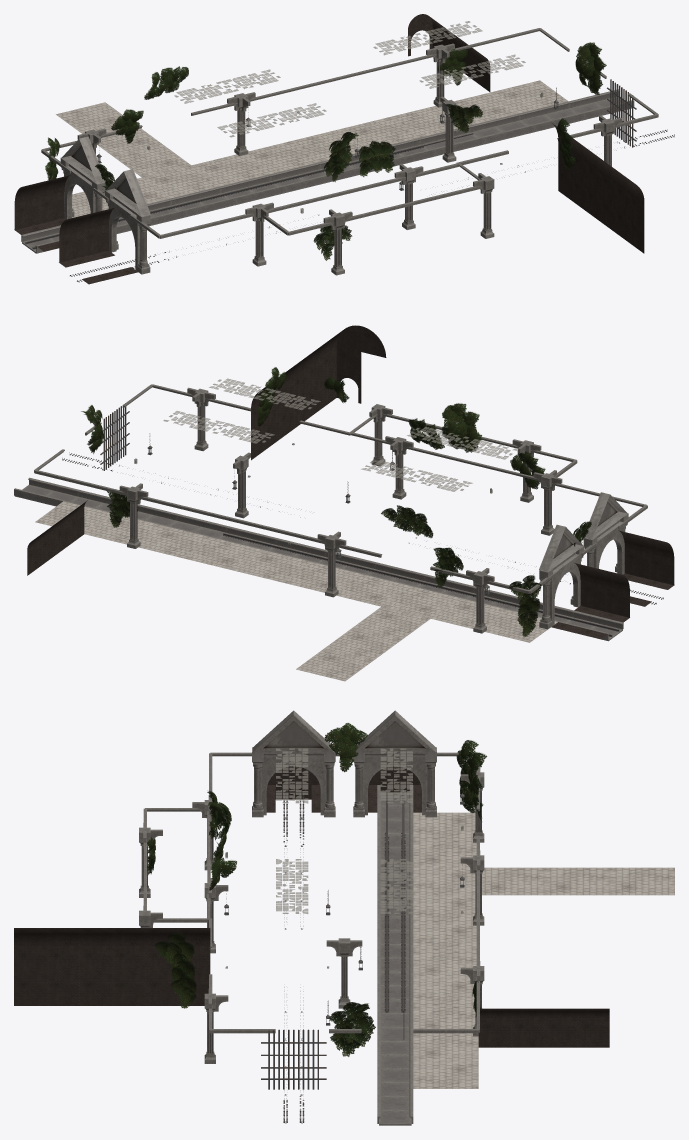
File: metro_station_3.glb
3 renders of one model, top to bottom at view 1: azimuth 30°, elevation 25°; view 2: azimuth 150°, elevation 25°; view 3: azimuth 270°, elevation 25°, orthographic. The views are drawn at different scales.
Visible parts, largest first — view 1: Platforms, Railway_Track1_Base, Corridors, Main_Walls, Main_Roof, Large_Corridor1, Tunnel_Entrance2, Tunnel_Arch2, Tunnel_Entrances, Tunnel_Arches, Small_Corridor1, Metal_Gate3 (+18 smaller); view 2: Platforms, Railway_Track1_Base, Corridors, Main_Walls, Main_Roof, Large_Corridor1, Tunnel_Entrances, Tunnel_Arches, Tunnel_Entrance2, Tunnel_Arch2, Small_Corridor1, Ivy_Large_Group10 (+19 smaller); view 3: Platforms, Corridors, Railway_Track1_Base, Main_Roof, Large_Corridor1, Small_Corridor1, Tunnel_Arch2, Tunnel_Arches, Main_Walls, Railway_Tracks, Metal_Gate3, Tunnel_Entrance2 (+10 smaller).
Boxes of the visible parts, bbox=[...] form: Platforms: bbox=[72, 80, 568, 217]; Railway_Track1_Base: bbox=[21, 89, 634, 253]; Corridors: bbox=[552, 123, 644, 253]; Main_Walls: bbox=[41, 28, 658, 238]; Main_Roof: bbox=[174, 21, 525, 137]; Large_Corridor1: bbox=[56, 102, 190, 177]; Tunnel_Entrance2: bbox=[59, 207, 137, 284]; Tunnel_Arch2: bbox=[105, 169, 150, 274]; Tunnel_Entrances: bbox=[14, 175, 70, 251]; Tunnel_Arches: bbox=[60, 136, 105, 219]; Small_Corridor1: bbox=[408, 14, 490, 91]; Metal_Gate3: bbox=[607, 79, 636, 147]; Platforms: bbox=[35, 501, 557, 642]; Railway_Track1_Base: bbox=[14, 477, 623, 641]; Corridors: bbox=[251, 325, 386, 460]; Main_Walls: bbox=[34, 384, 647, 593]; Main_Roof: bbox=[163, 378, 518, 491]; Large_Corridor1: bbox=[296, 606, 430, 681]; Tunnel_Entrances: bbox=[551, 563, 629, 639]; Tunnel_Arches: bbox=[539, 524, 584, 629]; Tunnel_Entrance2: bbox=[618, 530, 674, 606]; Tunnel_Arch2: bbox=[583, 492, 628, 574]; Small_Corridor1: bbox=[27, 500, 87, 575]; Ivy_Large_Group10: bbox=[442, 403, 481, 452]; Platforms: bbox=[413, 812, 478, 1088]; Corridors: bbox=[14, 928, 210, 1005]; Railway_Track1_Base: bbox=[377, 785, 413, 1125]; Main_Roof: bbox=[276, 748, 412, 913]; Large_Corridor1: bbox=[482, 867, 674, 895]; Small_Corridor1: bbox=[478, 1008, 609, 1047]; Tunnel_Arch2: bbox=[252, 710, 335, 817]; Tunnel_Arches: bbox=[353, 710, 436, 817]; Main_Walls: bbox=[143, 752, 479, 1033]; Railway_Tracks: bbox=[384, 789, 405, 1039]; Metal_Gate3: bbox=[261, 1029, 326, 1089]; Tunnel_Entrance2: bbox=[266, 766, 320, 812].
Size of the model in its own units: 48 by 9.47 by 40.4.
6 materials, 6 textured.
